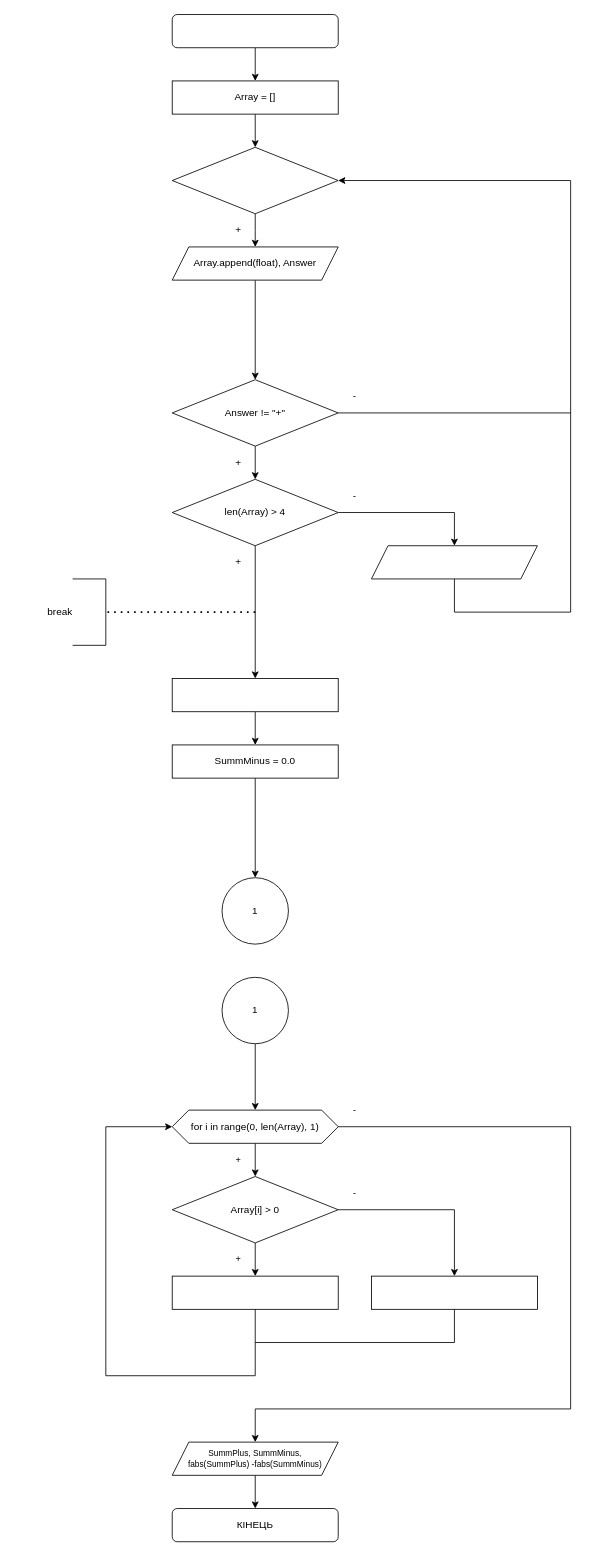
Some shapes in this 592 by 1556 pixel diagram are drawn without their labels. Here are the shapes that lost their labels. From the top down, the box of each, then its label:
(171, 14, 338, 48): ПОЧАТОК
(171, 146, 338, 214): true
(371, 545, 537, 579): "повідомлення про переввід"
(171, 678, 338, 712): SummPlus = 0.0
(171, 1275, 338, 1309): SummPlus = SummPlus + Array[i]
(371, 1275, 537, 1309): SummMinus = SummMinus + Array[i]
